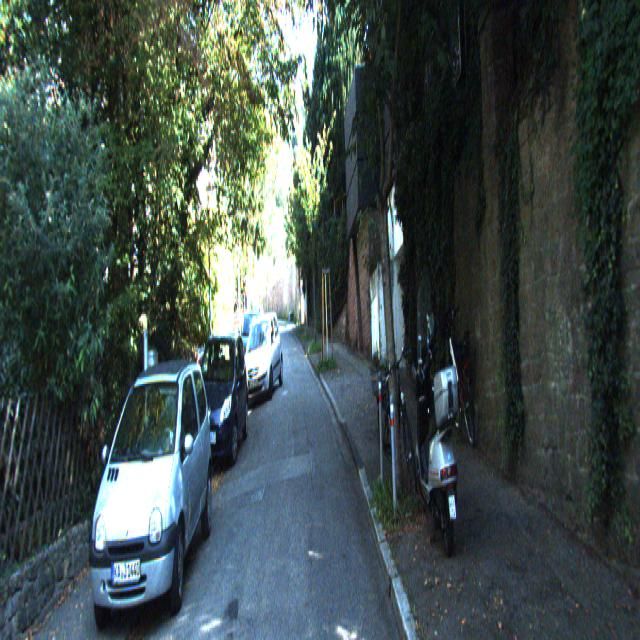Car: (86, 345, 216, 638), (412, 316, 466, 573), (189, 325, 250, 470), (240, 310, 284, 405)
